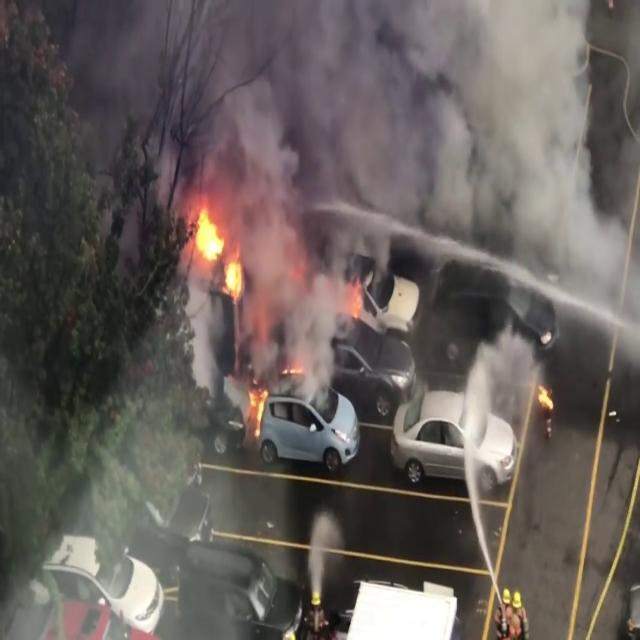Fire: (183, 194, 246, 299), (246, 380, 270, 437)
Smoke: (30, 0, 636, 281)
